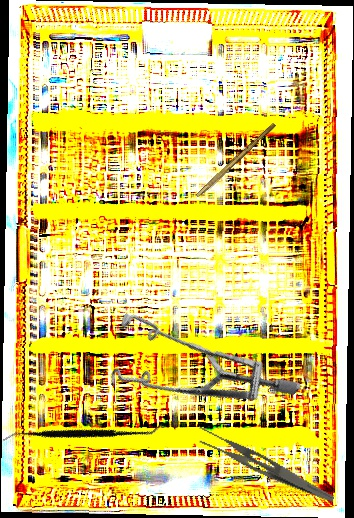Dressing Forceps: (190, 423, 342, 504)
Scalpel Handle: (195, 121, 277, 200)
Spatula Surgical: (0, 358, 165, 507)
Speculum: (82, 259, 303, 482)
